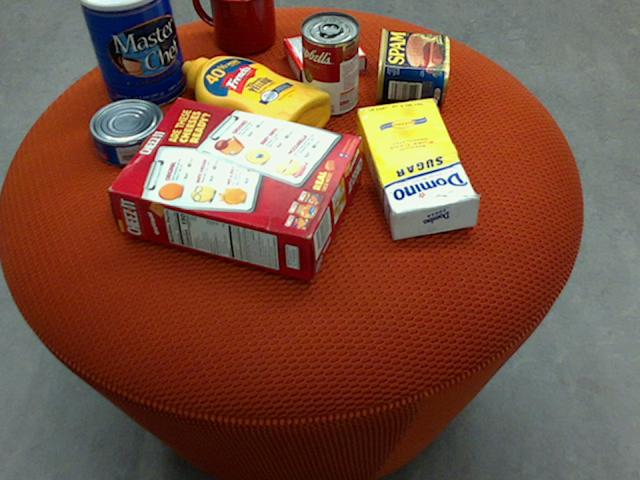cracker_box: (107, 96, 361, 278)
gelatin_box: (283, 26, 367, 86)
large_marker: (231, 0, 262, 47)
master_chef_can: (77, 0, 186, 109)
mug: (193, 0, 274, 54)
mustard_bottle: (181, 56, 329, 153)
potted_meat_can: (374, 28, 447, 104)
sugar_box: (354, 99, 479, 238)
tomato_soup_can: (299, 10, 359, 115)
tuna_fish_can: (87, 99, 167, 166)
